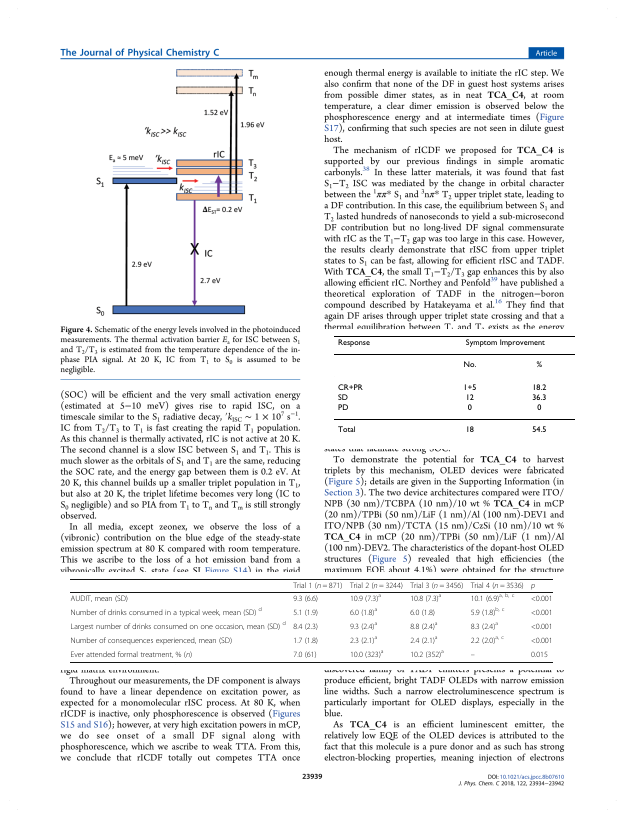borderless: (69, 577, 553, 662), (332, 334, 576, 443)
cell: (70, 620, 287, 632), (70, 606, 263, 618), (70, 636, 233, 646), (70, 650, 193, 660), (464, 339, 545, 348), (70, 594, 129, 604), (470, 592, 515, 604), (349, 581, 404, 590), (409, 581, 464, 590), (470, 581, 525, 590), (292, 581, 343, 590), (409, 648, 445, 660), (470, 606, 505, 618), (470, 634, 505, 646), (349, 648, 384, 660), (349, 592, 382, 604), (409, 592, 442, 604), (349, 606, 378, 618), (349, 620, 378, 632), (409, 620, 438, 632), (470, 620, 499, 632), (349, 634, 378, 646), (409, 634, 438, 646), (336, 339, 370, 348), (292, 594, 319, 604), (292, 608, 319, 618), (409, 608, 436, 618), (292, 622, 319, 632), (292, 636, 319, 646), (336, 383, 363, 393), (292, 650, 317, 660), (530, 594, 553, 604), (530, 608, 553, 618), (530, 622, 553, 632), (530, 636, 553, 646), (530, 650, 549, 660), (336, 426, 356, 435), (531, 383, 547, 393), (531, 393, 547, 403), (462, 383, 477, 393), (531, 426, 547, 435), (462, 361, 477, 370), (336, 393, 348, 403), (336, 404, 349, 413), (464, 393, 474, 403), (464, 426, 474, 435), (535, 361, 543, 370), (466, 404, 472, 413), (536, 404, 542, 413), (530, 583, 536, 590), (470, 654, 476, 658)
